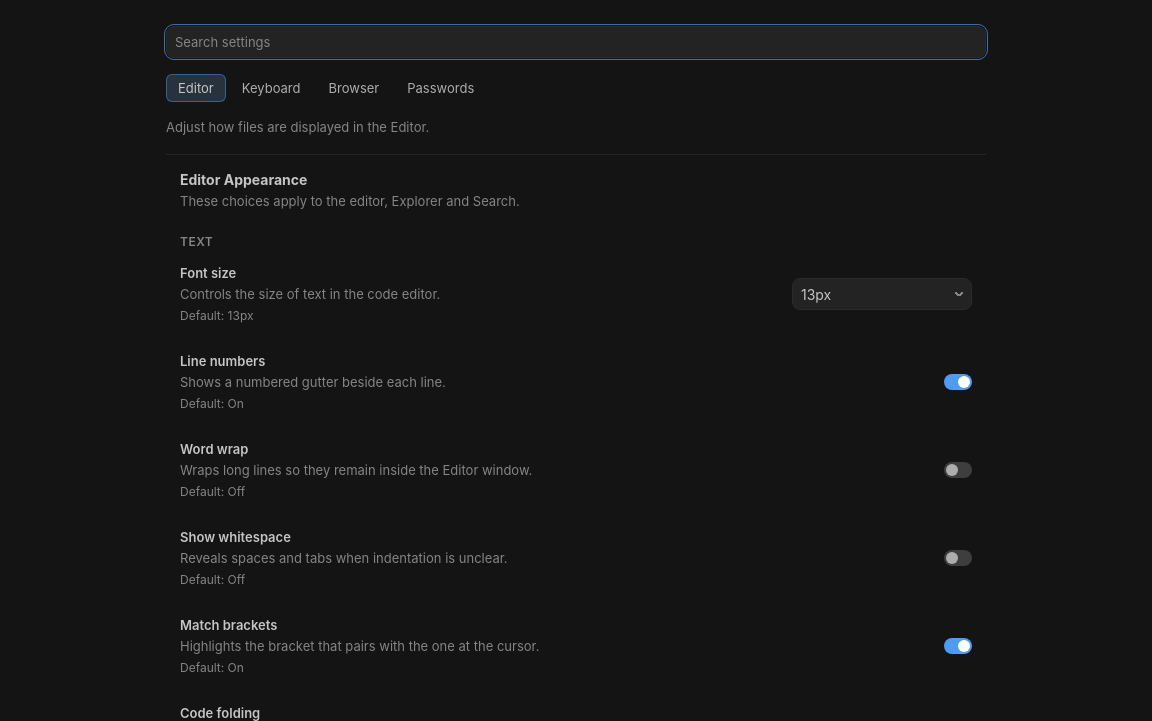
Test: SettingsSurface › shows the real chord for each shortcut on the Keyboard page
Click the tab "Keyboard".
click(271, 88)  # box [230,74,313,102]
(page scrolled)
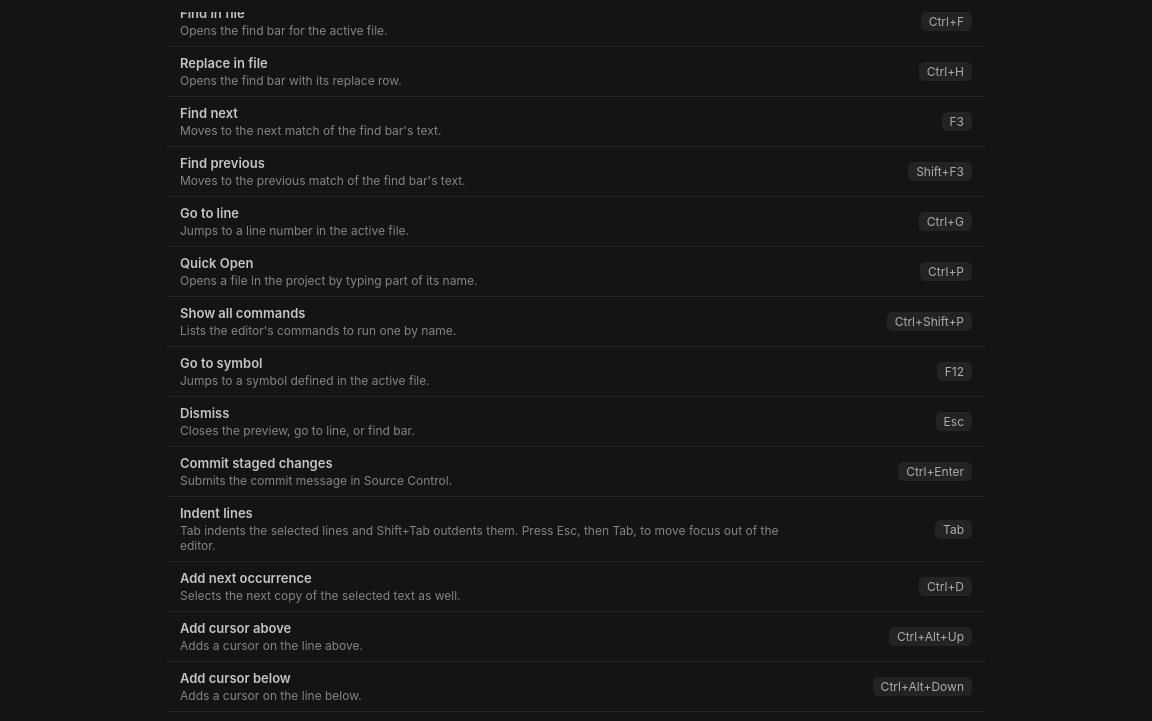
Expected: the text "Go to symbol" shows "F12", [945,364,964,379]
